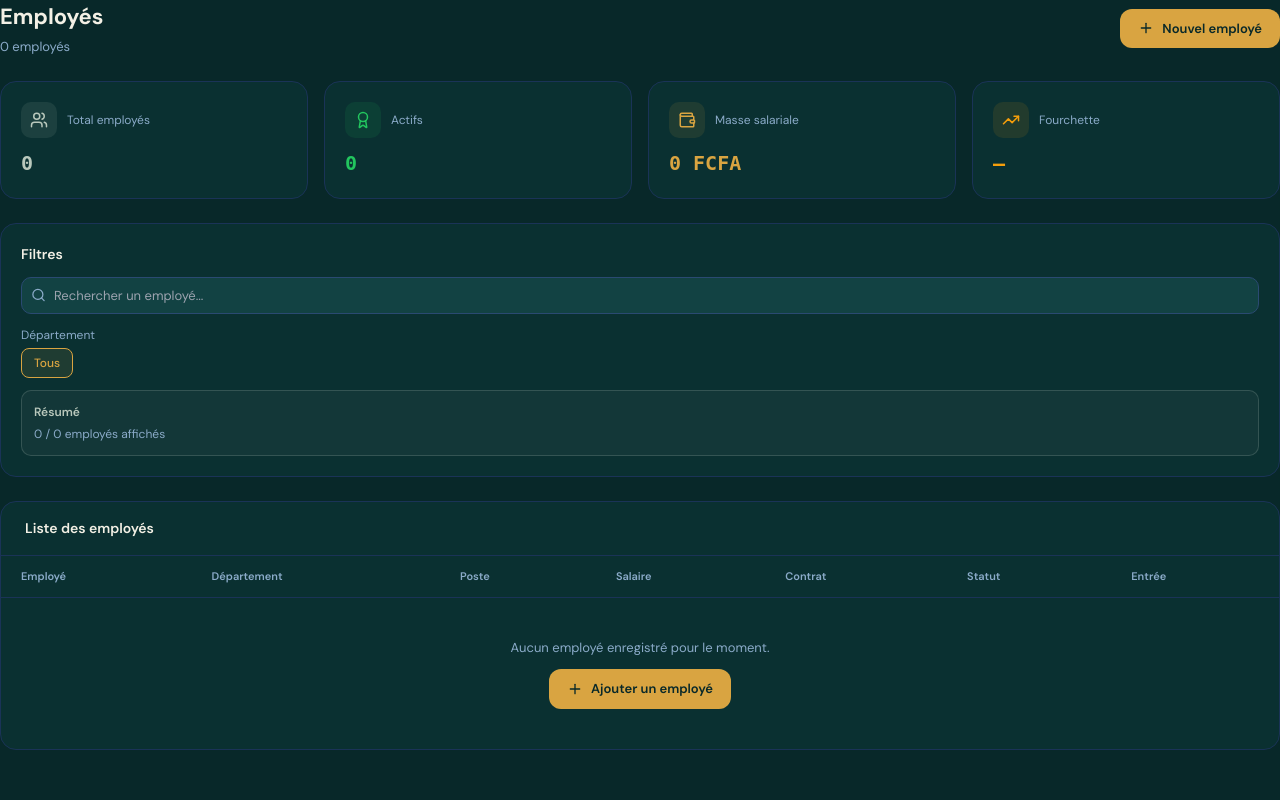
Test: EmployesPage › ajout › contient les champs du formulaire
Click the button "Nouvel employé".
click(1200, 28)  # box 1120,8 -> 1279,48
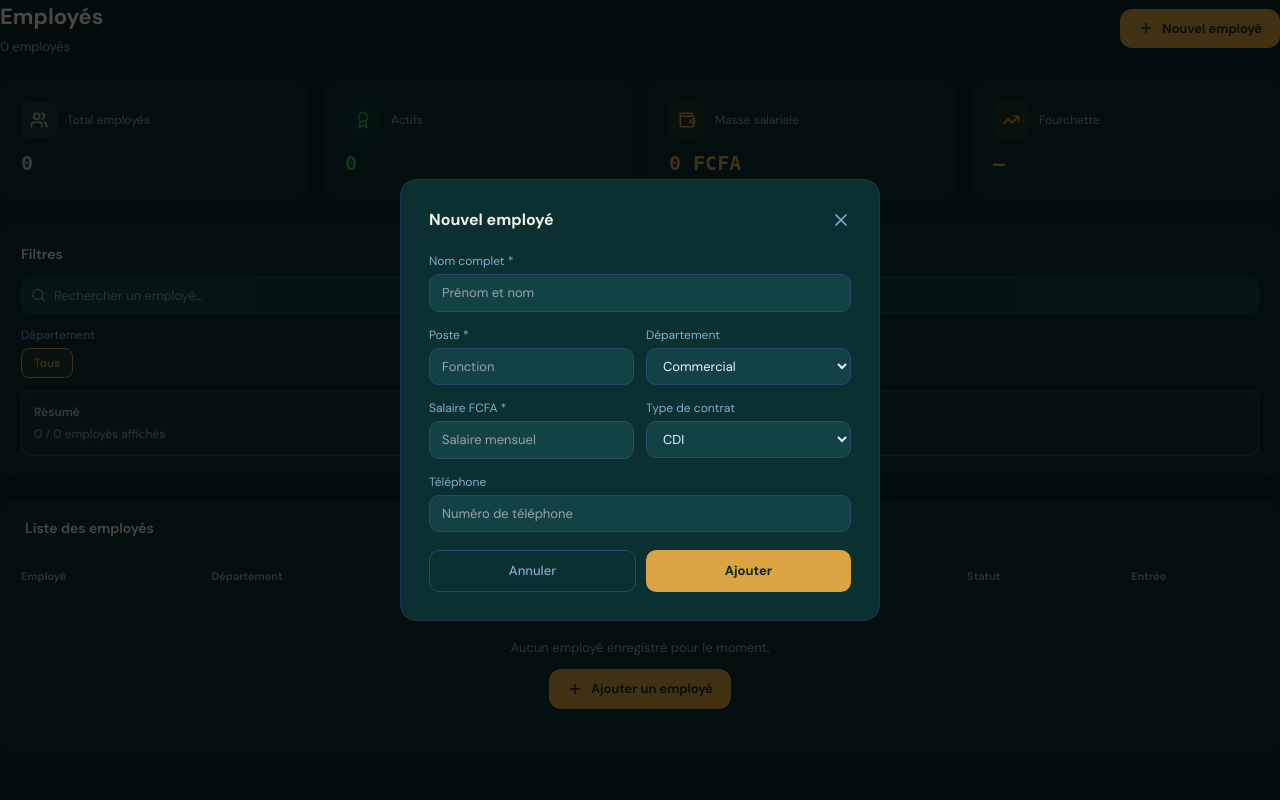
Check: the field with placeholder "Prénom et nom" is shown, box 429,274 -> 851,312
Check: the field with placeholder "Fonction" is shown, box 429,348 -> 634,385
Check: the number field with placeholder "Salaire mensuel" is shown, box 429,421 -> 634,459
